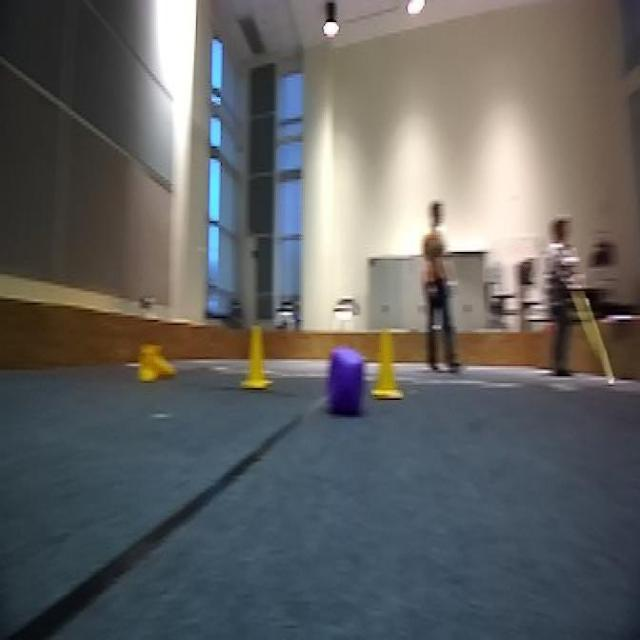frc_cone: (235, 323, 275, 388), (371, 330, 401, 400), (134, 339, 176, 386)
frc_cube: (328, 347, 368, 414)
